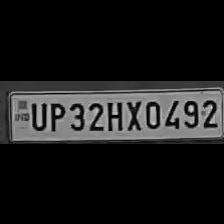0: (141, 96, 161, 130)
2: (198, 96, 218, 128), (86, 97, 104, 131)
3: (65, 98, 85, 130)
4: (162, 95, 180, 129)
9: (179, 96, 199, 128)
H: (104, 97, 124, 130)
P: (46, 98, 66, 132)
U: (28, 98, 46, 130)
X: (124, 96, 142, 130)
